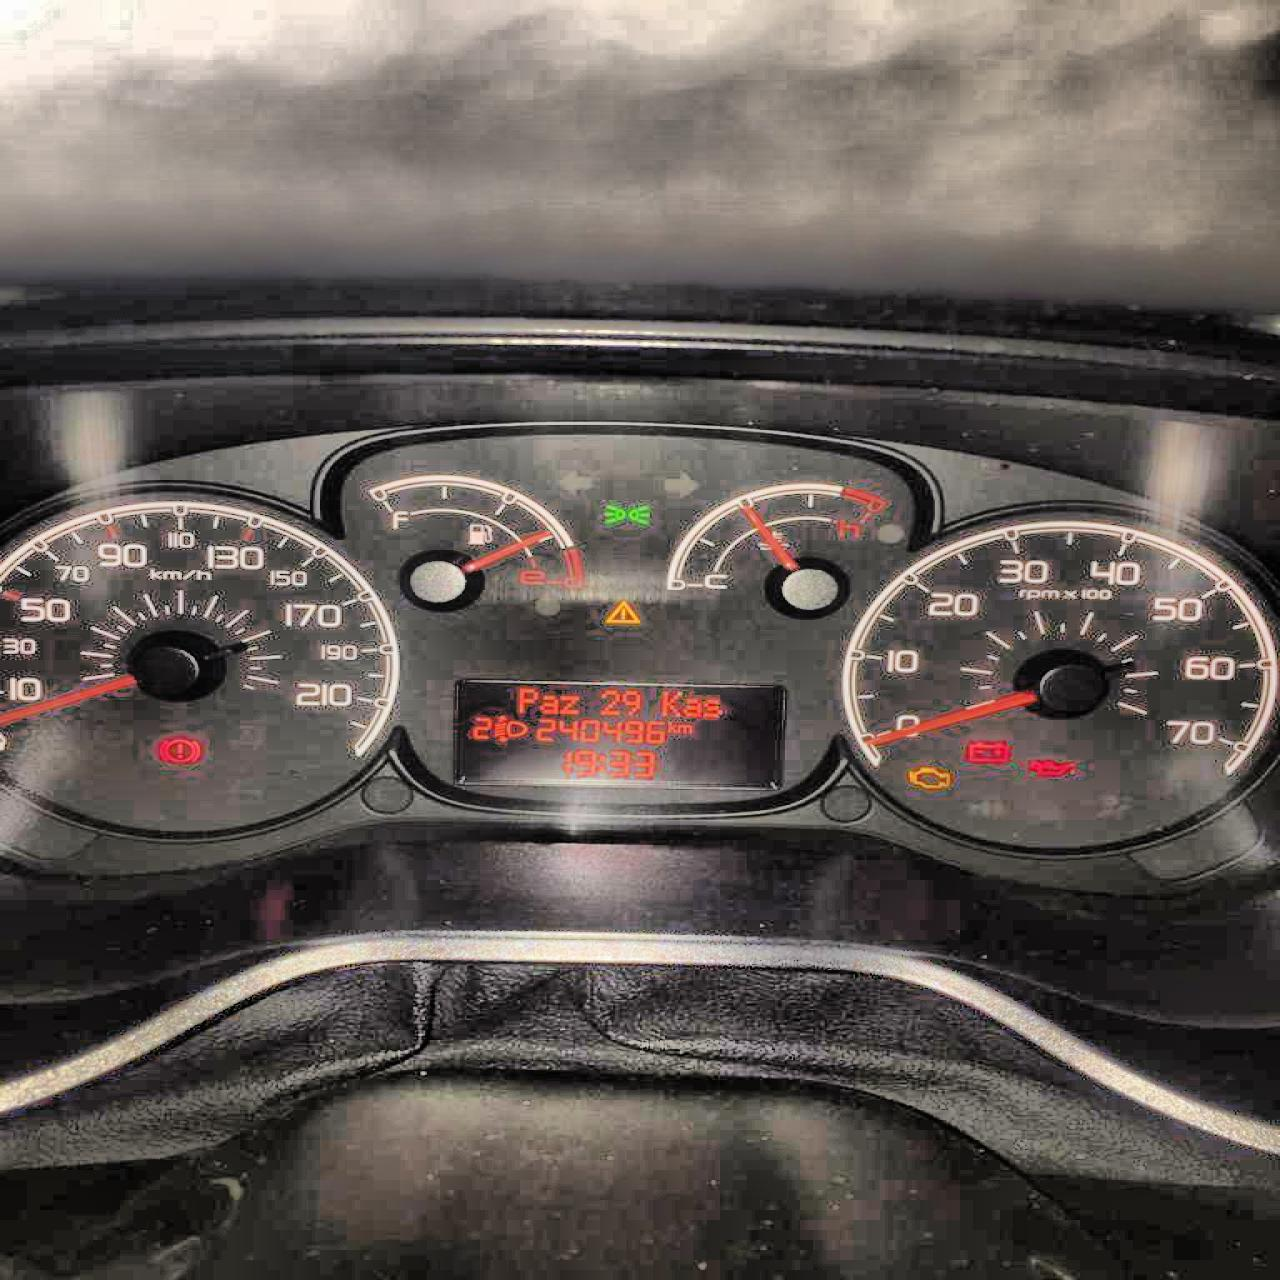0: (579, 719, 599, 741)
1: (564, 749, 570, 774)
2: (598, 689, 620, 715), (535, 717, 554, 741), (470, 716, 490, 738)
3: (633, 750, 654, 778), (608, 749, 628, 776)
4: (557, 719, 577, 741), (601, 720, 620, 741)
6: (645, 719, 663, 743)
9: (620, 687, 641, 715), (573, 749, 594, 775), (624, 719, 644, 742)
X: (656, 689, 680, 716), (517, 686, 537, 714), (700, 695, 722, 716), (558, 694, 579, 714), (538, 693, 557, 714), (682, 696, 700, 716), (676, 722, 692, 733), (597, 753, 605, 771), (666, 720, 676, 733)
odometer: (445, 667, 795, 792)
